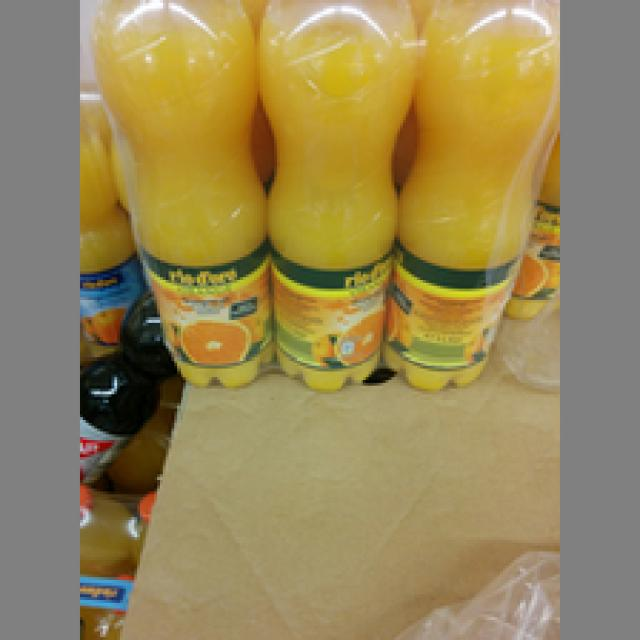groceries: (88, 0, 266, 383), (254, 0, 420, 386), (392, 3, 552, 391)
